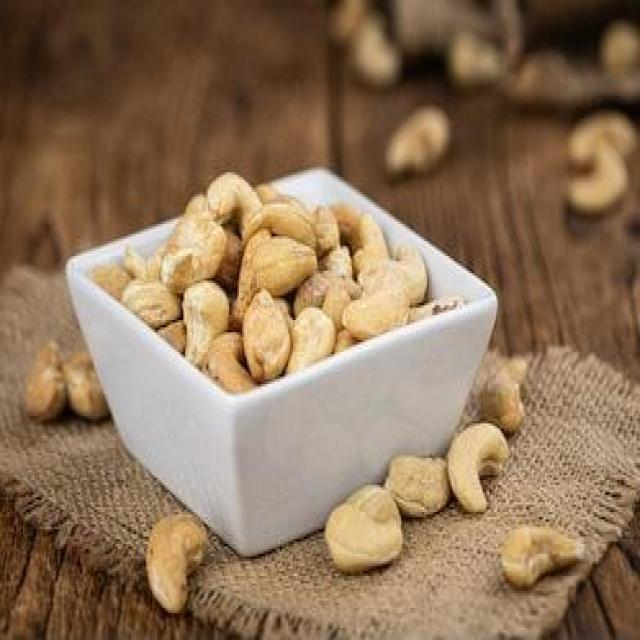Cashew: (135, 493, 226, 620), (443, 405, 512, 528), (497, 504, 592, 593), (329, 493, 404, 579), (237, 296, 306, 374), (342, 288, 417, 356), (252, 195, 320, 259), (177, 293, 235, 363), (252, 242, 326, 296), (373, 245, 437, 300), (166, 226, 232, 277), (349, 210, 393, 268), (208, 173, 256, 221)
